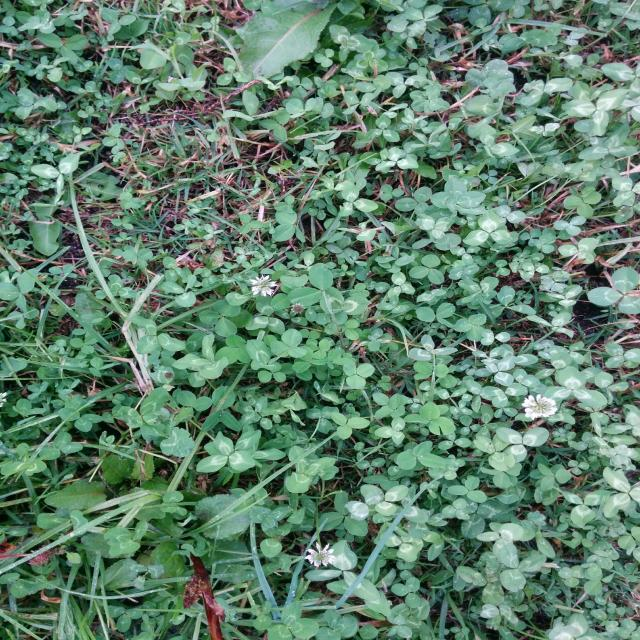Four Leaf Clover: (423, 177, 488, 223)
